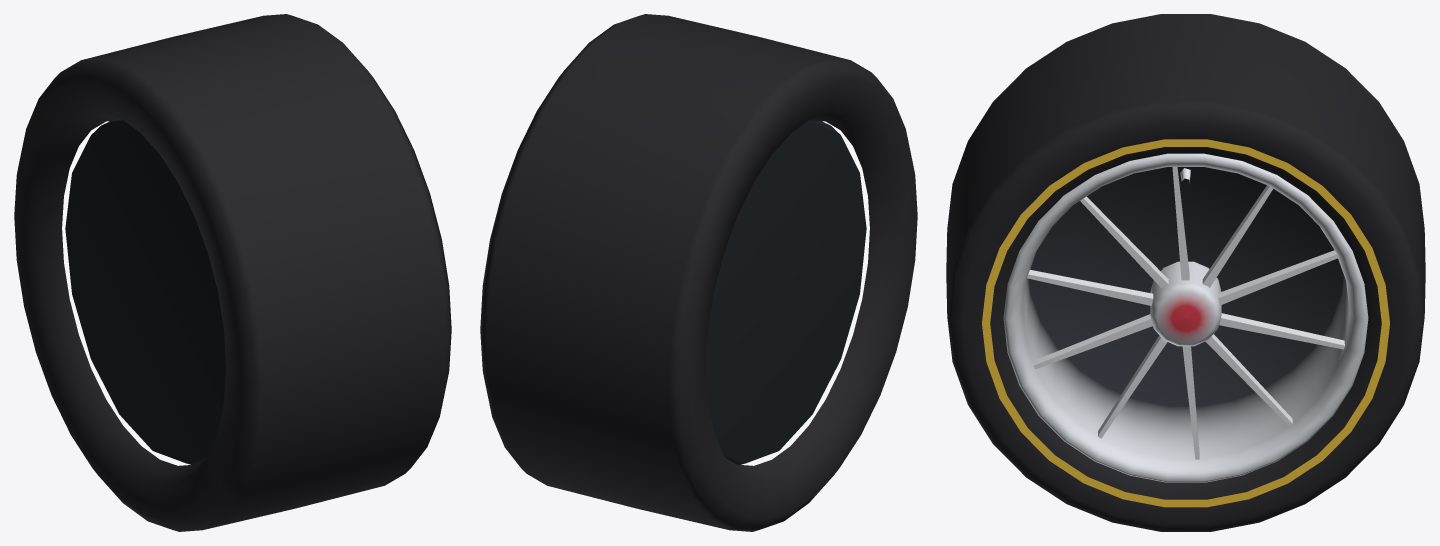
File: slick.glb
3 views of the same model, side by side, from view 1: azimuth 30°, elevation 25°; view 2: azimuth 150°, elevation 25°; view 3: azimuth 270°, elevation 25° (orthographic).
Parts seen in each view (by area): view 1: tire; view 2: tire; view 3: tire.
Boxes of the visible parts, box(x1,y1,x2,y2) form: tire: box(14, 14, 451, 531); tire: box(480, 14, 917, 531); tire: box(946, 14, 1425, 531).
Size of the model in its own units: 1 by 1.99 by 2.
